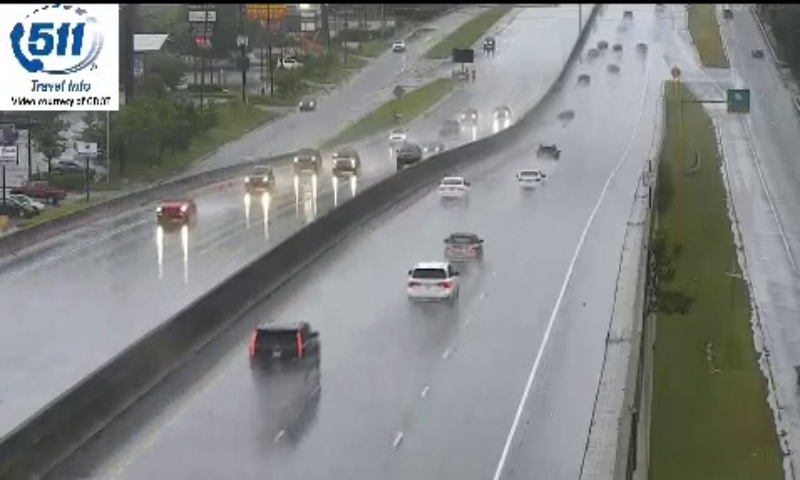car: (249, 321, 319, 371), (406, 260, 460, 302), (443, 232, 482, 264), (438, 177, 466, 201), (515, 169, 545, 190)
